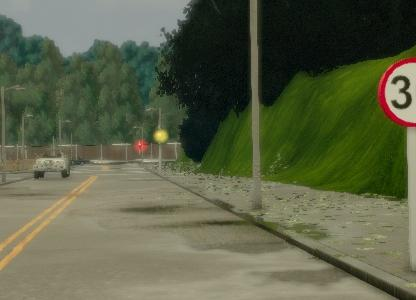Speed_30: (377, 58, 416, 130)
